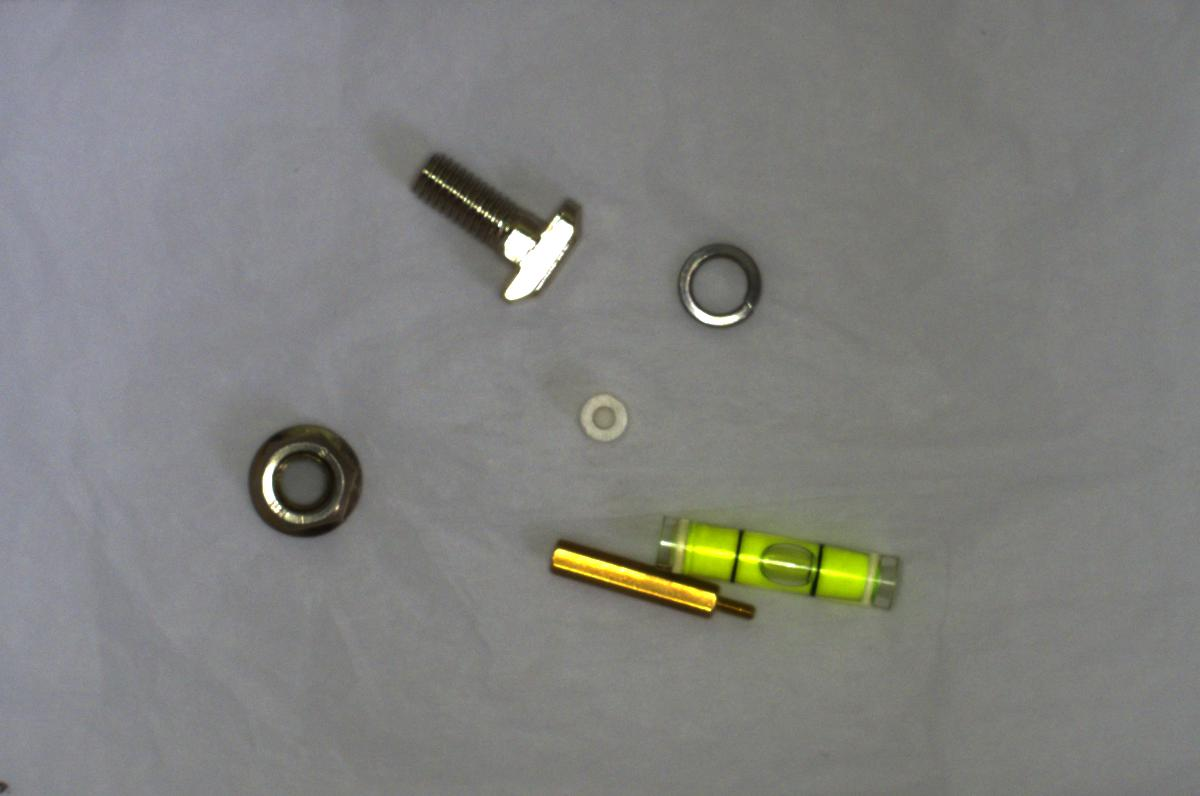Flange nut: (240, 414, 377, 543)
Hexagon pillar: (528, 528, 758, 626)
Horizontal bubble: (650, 501, 919, 627)
Plastic cushion pillar: (572, 381, 632, 452)
Spring washer: (661, 238, 771, 338)
T-shaped screw: (402, 147, 594, 307)
